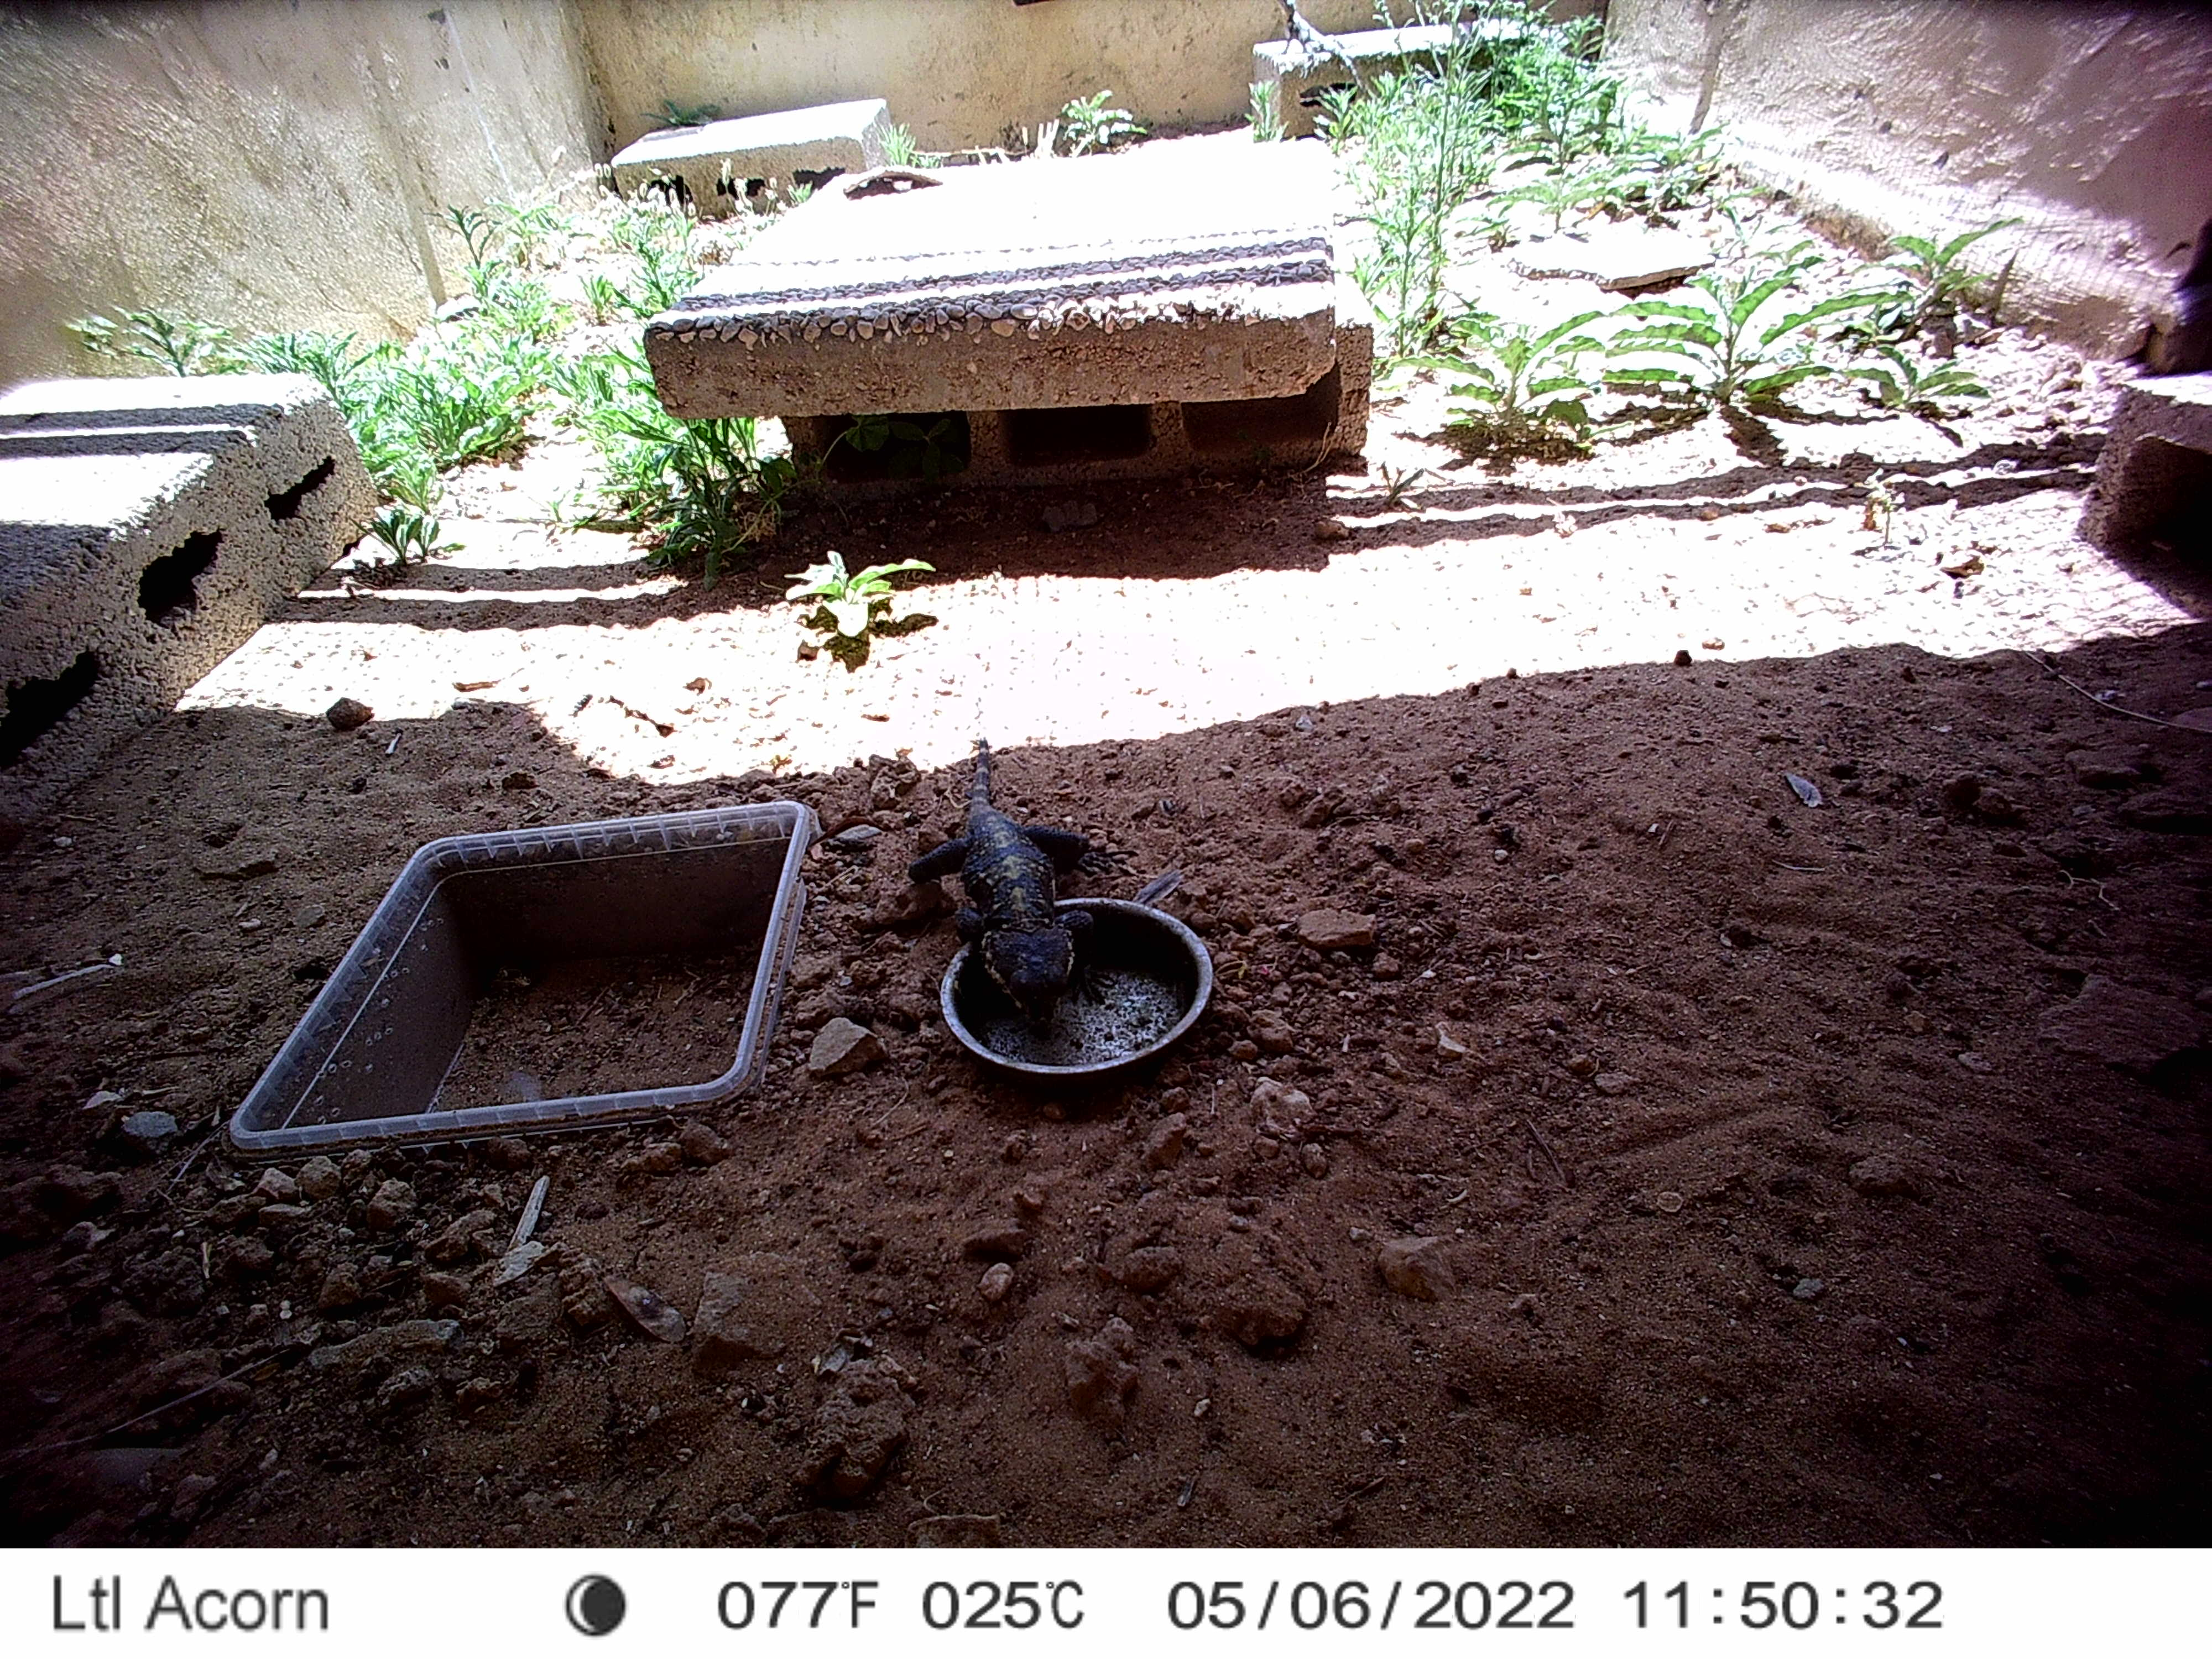lizard: (904, 760, 1111, 1011), (1249, 0, 1372, 98)
